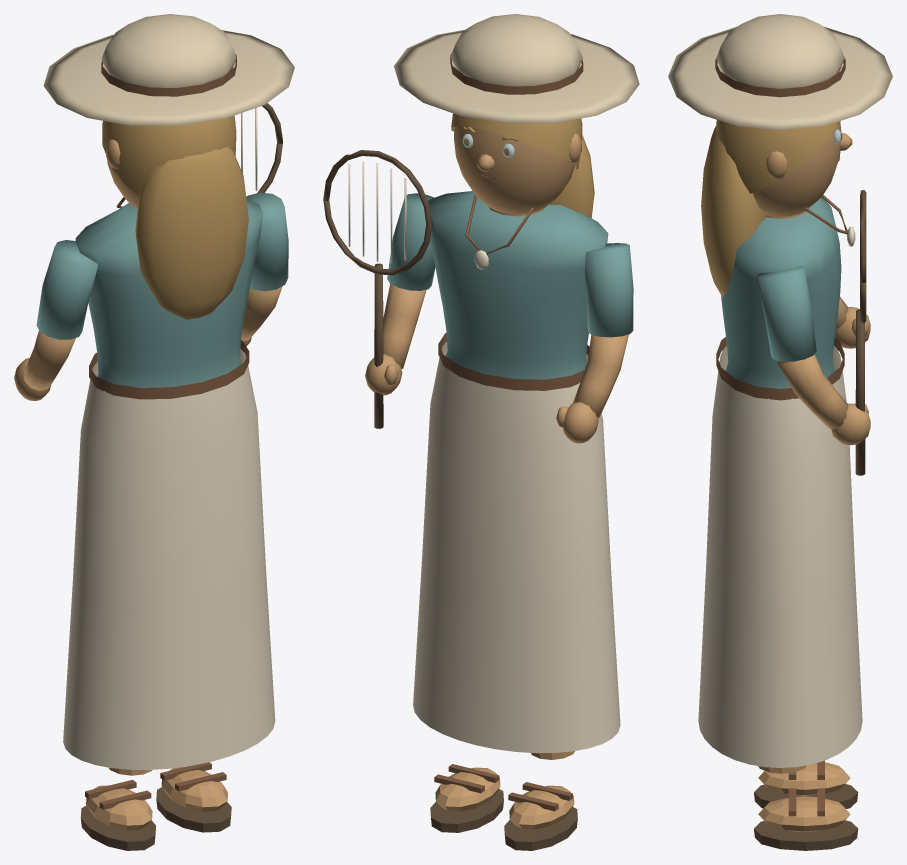
The model's file is SM_NPC_OLA.glb.
The picture shows the model from 3 angles, left to right: view 1: azimuth 30°, elevation 25°; view 2: azimuth 150°, elevation 25°; view 3: azimuth 270°, elevation 25°; orthographic projection. The views are drawn at different scales.
Parts seen in each view (by area): view 1: SM_NPC_OLA_BODY, SM_NPC_OLA_HAIR, SM_NPC_OLA_ARM_L, SM_NPC_OLA_ARM_R, SM_NPC_OLA_LEG_L, SM_NPC_OLA_LEG_R, SM_NPC_OLA_HEAD; view 2: SM_NPC_OLA_BODY, SM_NPC_OLA_HAIR, SM_NPC_OLA_ARM_R, SM_NPC_OLA_ARM_L, SM_NPC_OLA_HEAD, SM_NPC_OLA_LEG_L, SM_NPC_OLA_LEG_R; view 3: SM_NPC_OLA_BODY, SM_NPC_OLA_HAIR, SM_NPC_OLA_ARM_R, SM_NPC_OLA_LEG_R, SM_NPC_OLA_HEAD, SM_NPC_OLA_LEG_L, SM_NPC_OLA_ARM_L.
Part boxes in pixels (box(x1,y1,x2,y2)): SM_NPC_OLA_BODY: box(63, 197, 275, 769); SM_NPC_OLA_HAIR: box(43, 14, 294, 319); SM_NPC_OLA_ARM_L: box(14, 240, 97, 400); SM_NPC_OLA_ARM_R: box(241, 103, 288, 346); SM_NPC_OLA_LEG_L: box(80, 767, 155, 850); SM_NPC_OLA_LEG_R: box(156, 762, 231, 832); SM_NPC_OLA_HEAD: box(106, 123, 235, 209); SM_NPC_OLA_BODY: box(413, 191, 620, 753); SM_NPC_OLA_HAIR: box(394, 14, 639, 218); SM_NPC_OLA_ARM_R: box(323, 150, 435, 428); SM_NPC_OLA_ARM_L: box(556, 243, 633, 443); SM_NPC_OLA_HEAD: box(454, 126, 581, 214); SM_NPC_OLA_LEG_L: box(504, 751, 577, 850); SM_NPC_OLA_LEG_R: box(430, 764, 503, 832); SM_NPC_OLA_BODY: box(698, 195, 862, 767); SM_NPC_OLA_HAIR: box(668, 14, 892, 296); SM_NPC_OLA_ARM_R: box(756, 190, 870, 475); SM_NPC_OLA_LEG_R: box(754, 765, 858, 850); SM_NPC_OLA_HEAD: box(753, 121, 852, 216); SM_NPC_OLA_LEG_L: box(754, 760, 858, 808); SM_NPC_OLA_ARM_L: box(835, 297, 870, 348).
Bounding box in the file's own units: 0.6811 × 1.89 × 0.4834.
